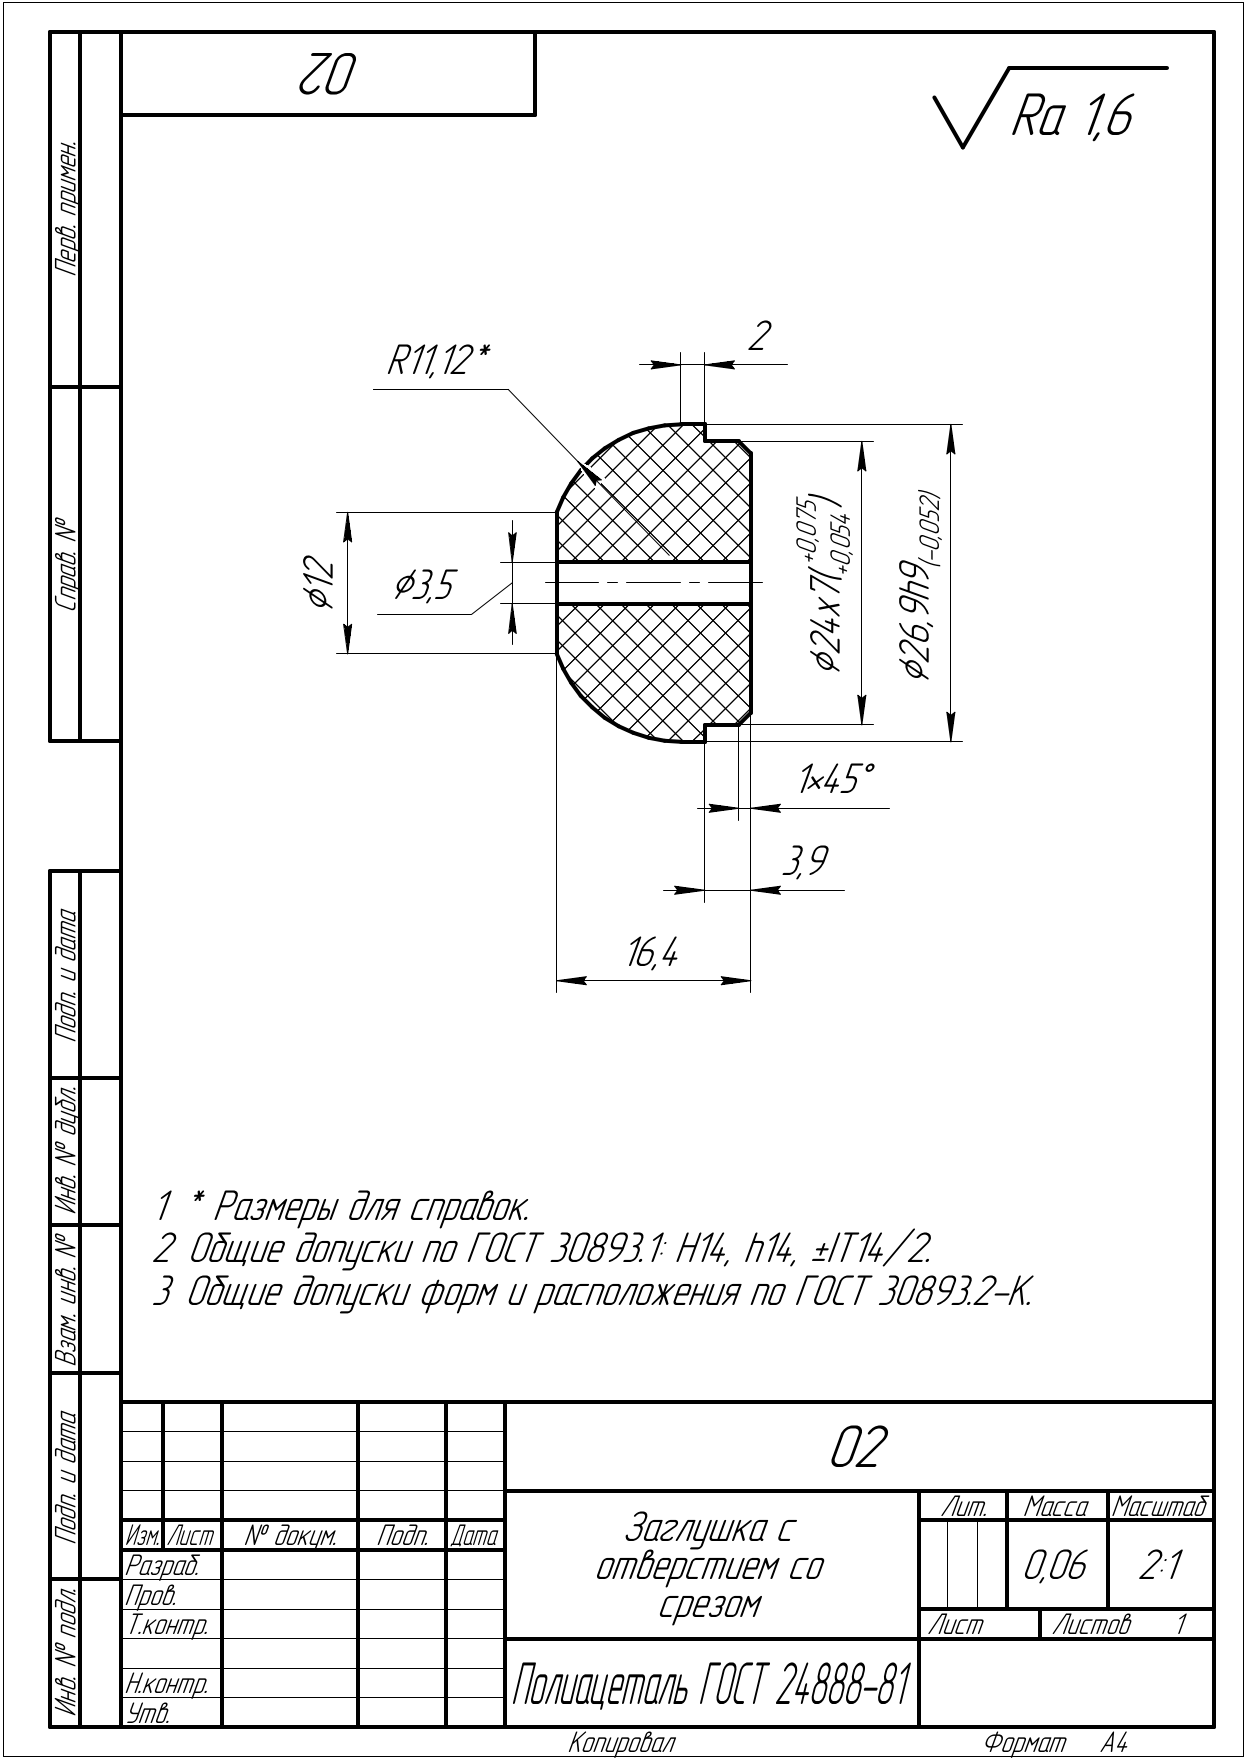Диаметральный размер: (794, 439, 875, 727), (893, 420, 964, 746), (375, 518, 521, 647), (296, 509, 354, 659)
Допуск: (794, 490, 853, 620), (889, 485, 943, 602)
Линейный размер: (551, 931, 757, 997), (660, 835, 848, 898), (636, 314, 796, 371)
Общая шероховатость: (922, 55, 1174, 154)
Технические требования: (144, 1181, 1043, 1312)
Фаска: (696, 754, 893, 823)
